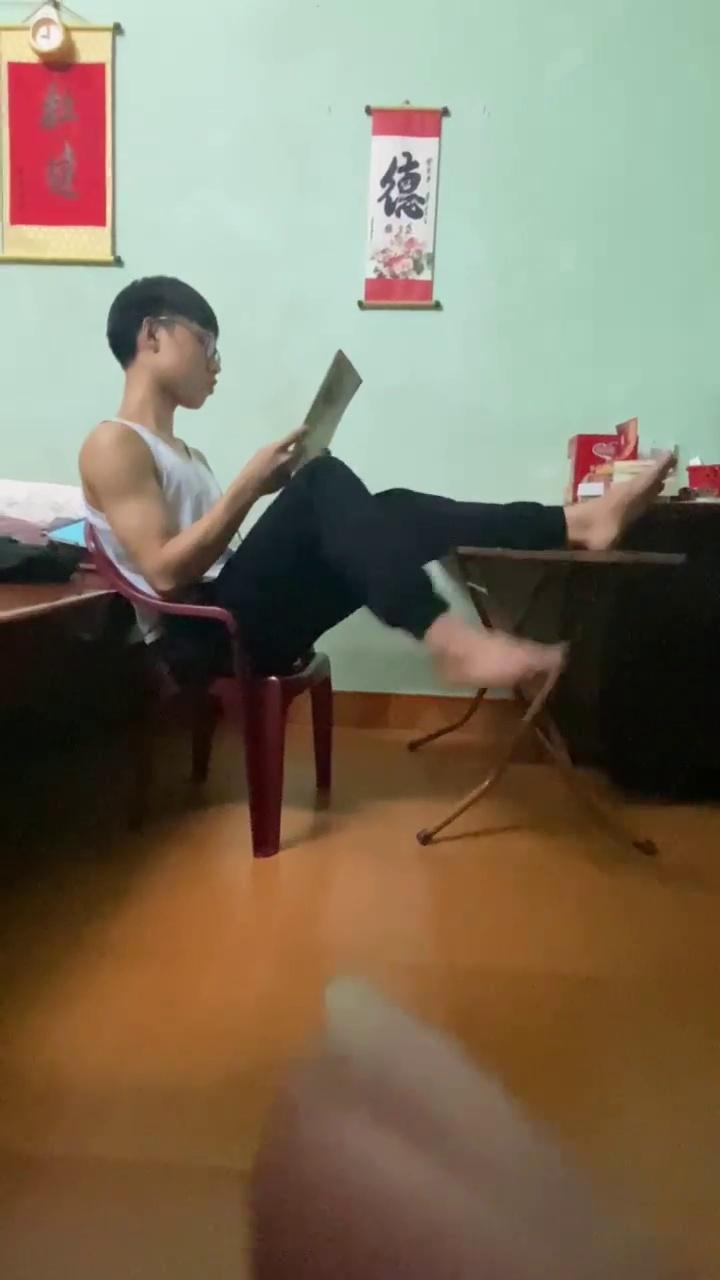BadPosture: (243, 453, 674, 688)
